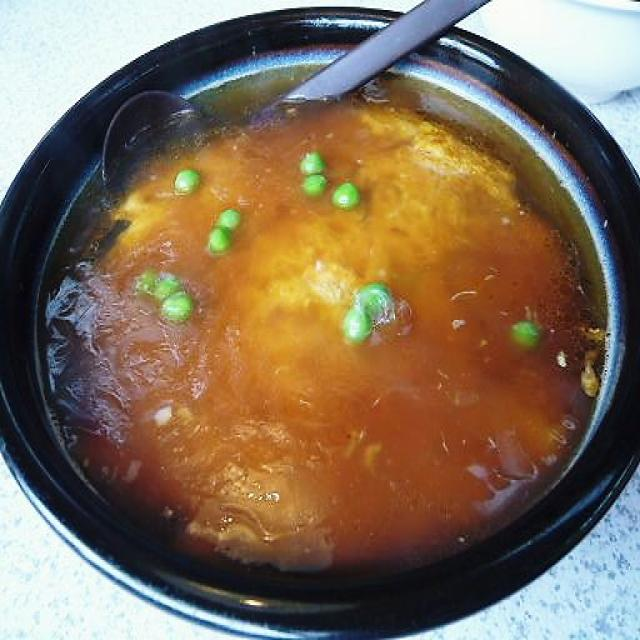面条主食: (32, 75, 608, 588)
